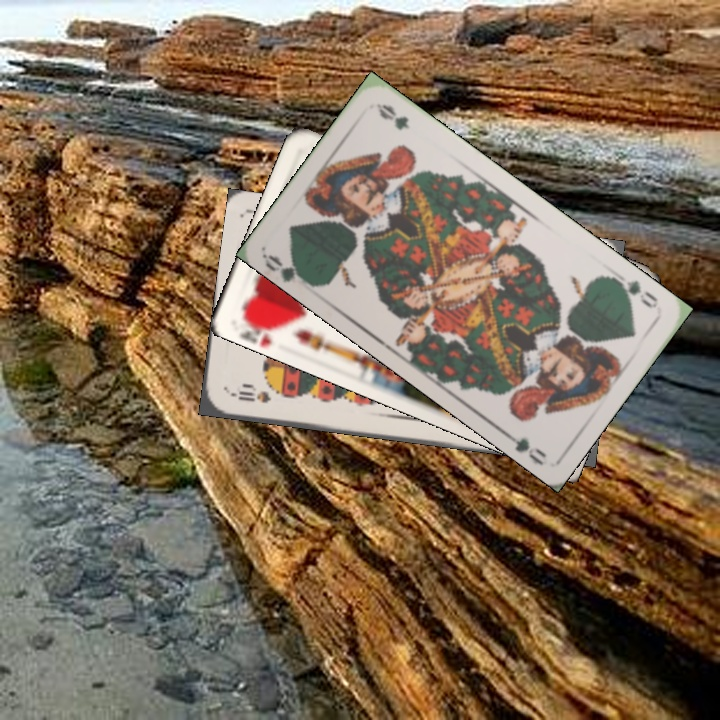GO: (261, 251, 318, 290), (610, 273, 661, 311)
HK: (237, 309, 285, 348)
S10: (226, 386, 273, 406)
